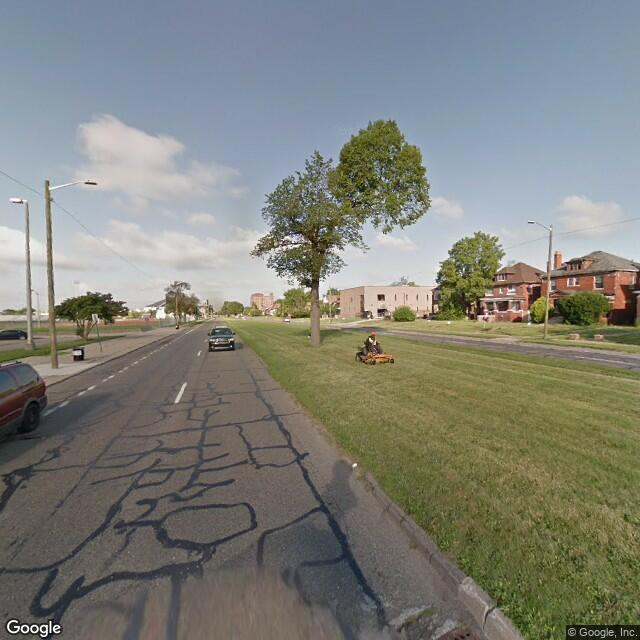litter: (344, 457, 362, 473)
